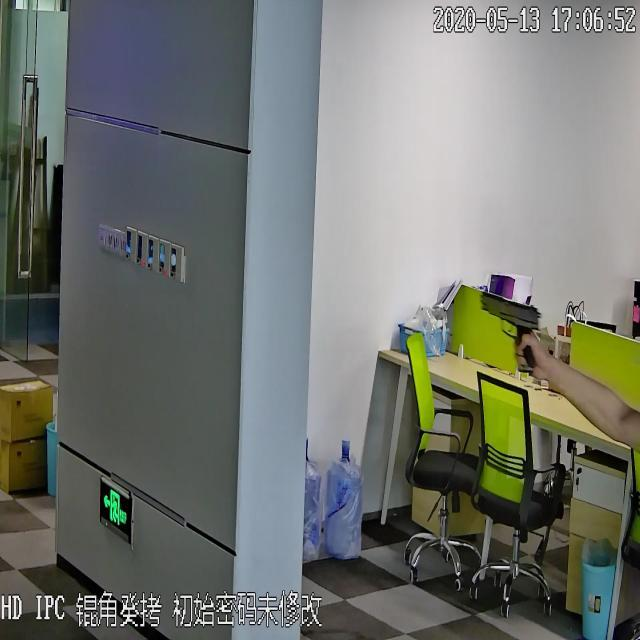gun: (478, 285, 540, 378)
